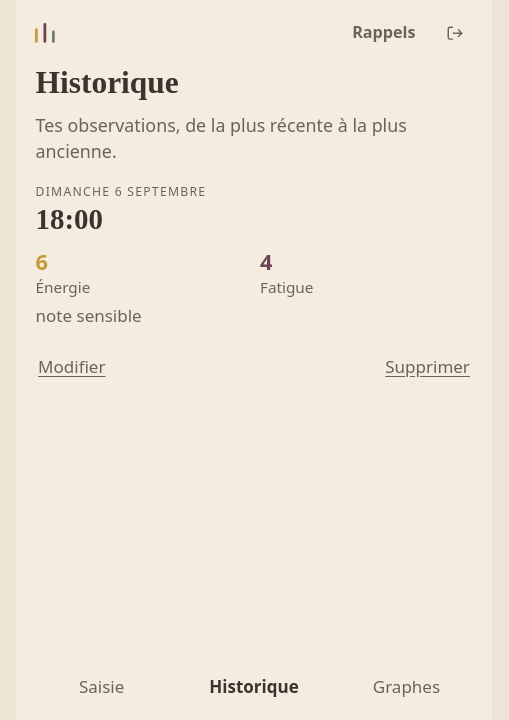
Test case: App authentification › logout appelle l’API, vide l’état et redirige vers /login
Expected: the text "note sensible" is shown, [36,304,142,328]
Click the button named "Se déconnecter" at [454, 33], box [431,9,478,56]
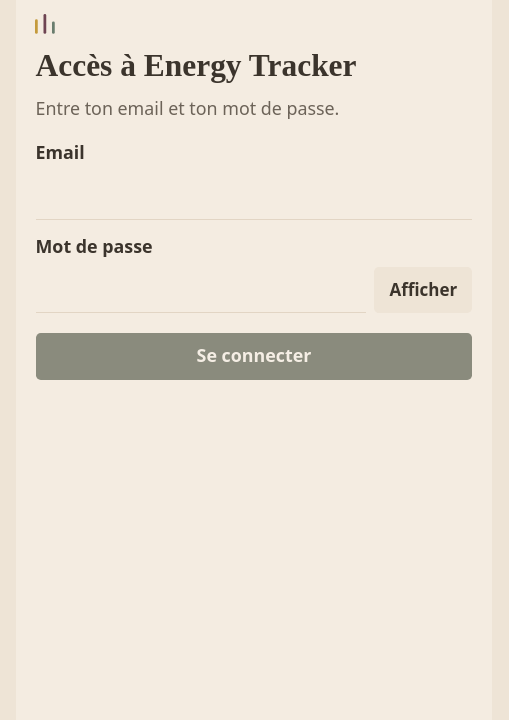
Now the heading "Accès à Energy Tracker" is shown, box [36,48,356,83]
Now the text "note sensible" is gone
